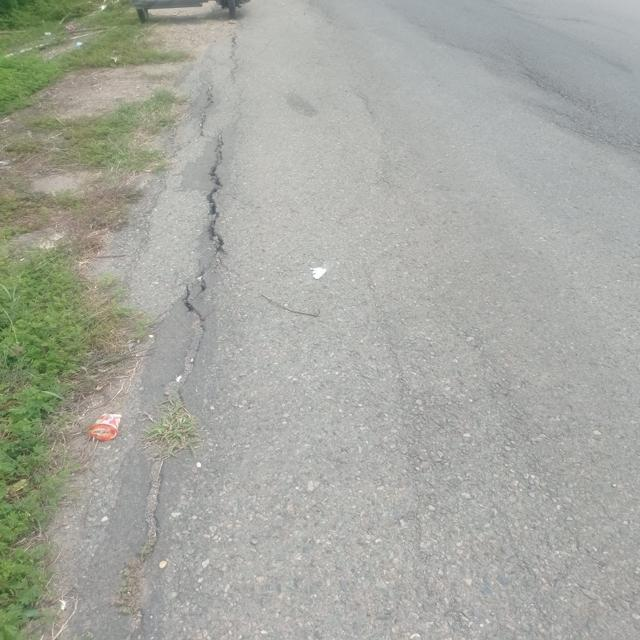Pinggir: (0, 77, 253, 638)
